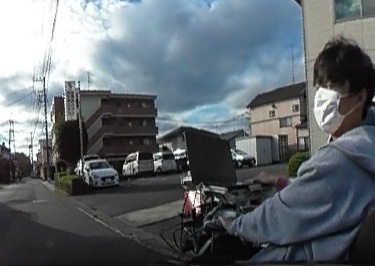person: (229, 39, 375, 266)
